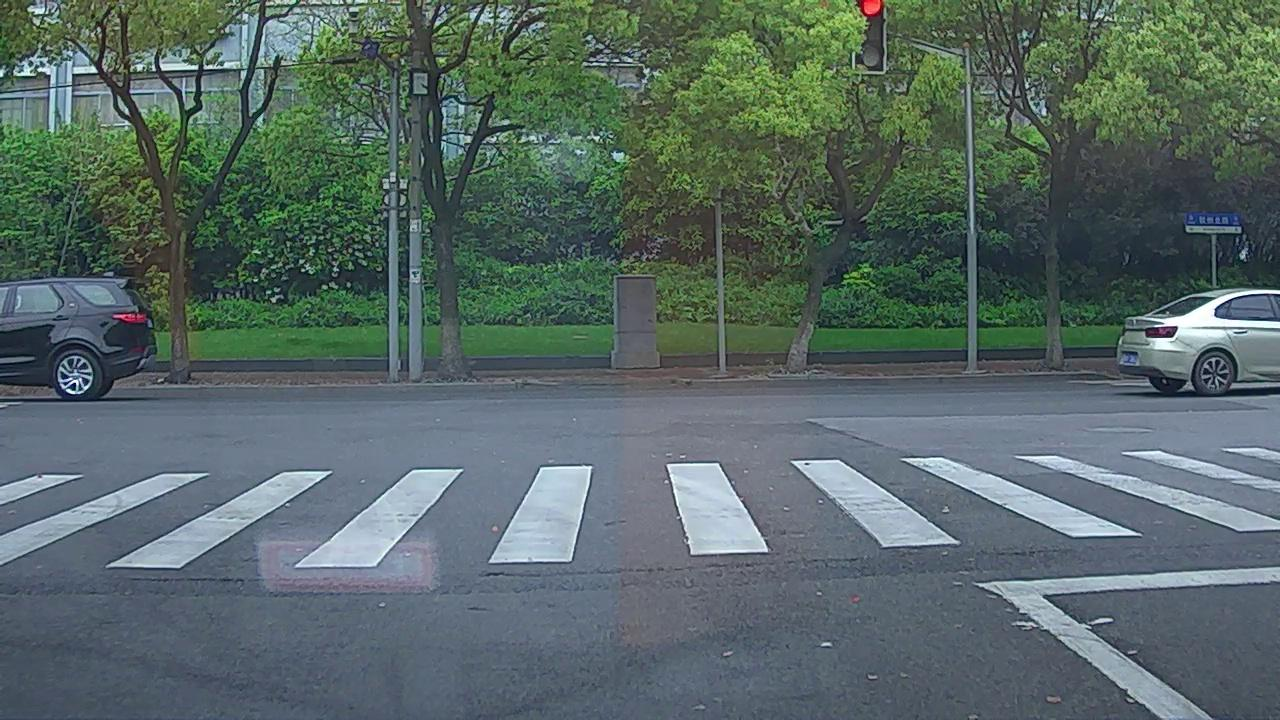traffic_light: (854, 1, 884, 70)
